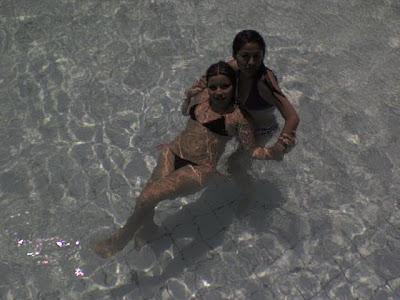swimmer: (103, 56, 251, 257), (227, 26, 300, 166)
